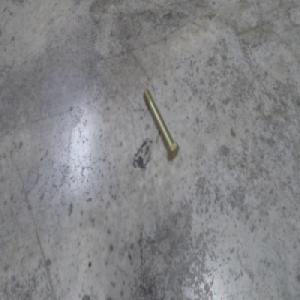Bolt: (143, 86, 180, 162)
